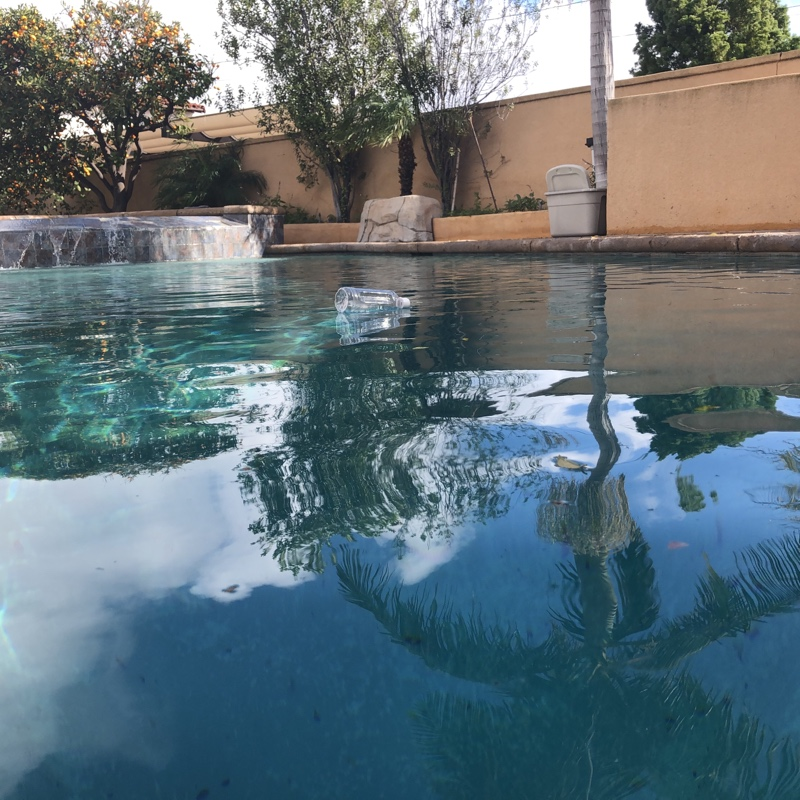Plastic Bottle: (330, 281, 412, 320)
